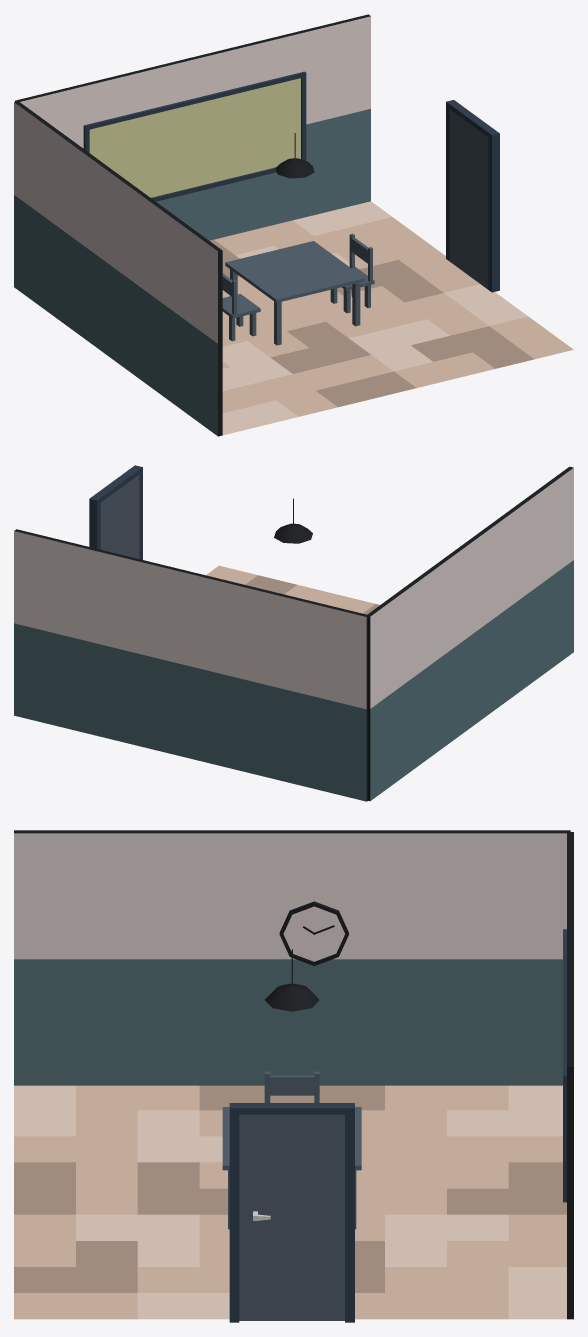
The model's file is interrogation.fbx.
The picture shows the model from 3 angles, top to bottom: view 1: azimuth 30°, elevation 25°; view 2: azimuth 150°, elevation 25°; view 3: azimuth 270°, elevation 25°; orthographic projection. The views are drawn at different scales.
Parts seen in each view (by area): view 1: Plane, wall.001, wall.002, Cube.003, corridor_door_2.001, Cube, Cube.001, Cube.002, Cylinder; view 2: wall.002, wall.001, corridor_door_2.001, Plane, Cylinder; view 3: wall.001, Plane, corridor_door_2.001, wall.002, Cylinder.001, Cube.001, Cube, Cylinder, Cube.003.
Boxes of the visible parts, x1,y1,x2,y2 form: Plane: (209, 201, 573, 435); wall.001: (14, 101, 222, 436); wall.002: (15, 14, 370, 240); Cube.003: (83, 71, 306, 201); corridor_door_2.001: (446, 100, 499, 292); Cube: (225, 241, 364, 345); Cube.001: (222, 273, 260, 341); Cube.002: (330, 233, 374, 313); Cylinder: (275, 133, 314, 178); wall.002: (14, 529, 368, 801); wall.001: (367, 466, 573, 801); corridor_door_2.001: (89, 465, 142, 559); Plane: (206, 565, 379, 614); Cylinder: (274, 498, 312, 543); wall.001: (14, 830, 570, 1085); Plane: (14, 1085, 566, 1319); corridor_door_2.001: (229, 1103, 354, 1322); wall.002: (567, 832, 573, 1319); Cylinder.001: (279, 901, 348, 965); Cube.001: (264, 1071, 319, 1102); Cube: (222, 1107, 361, 1229); Cylinder: (265, 949, 319, 1011); Cube.003: (563, 929, 566, 1202).
Size of the model in its own units: 827 by 401 by 805.
